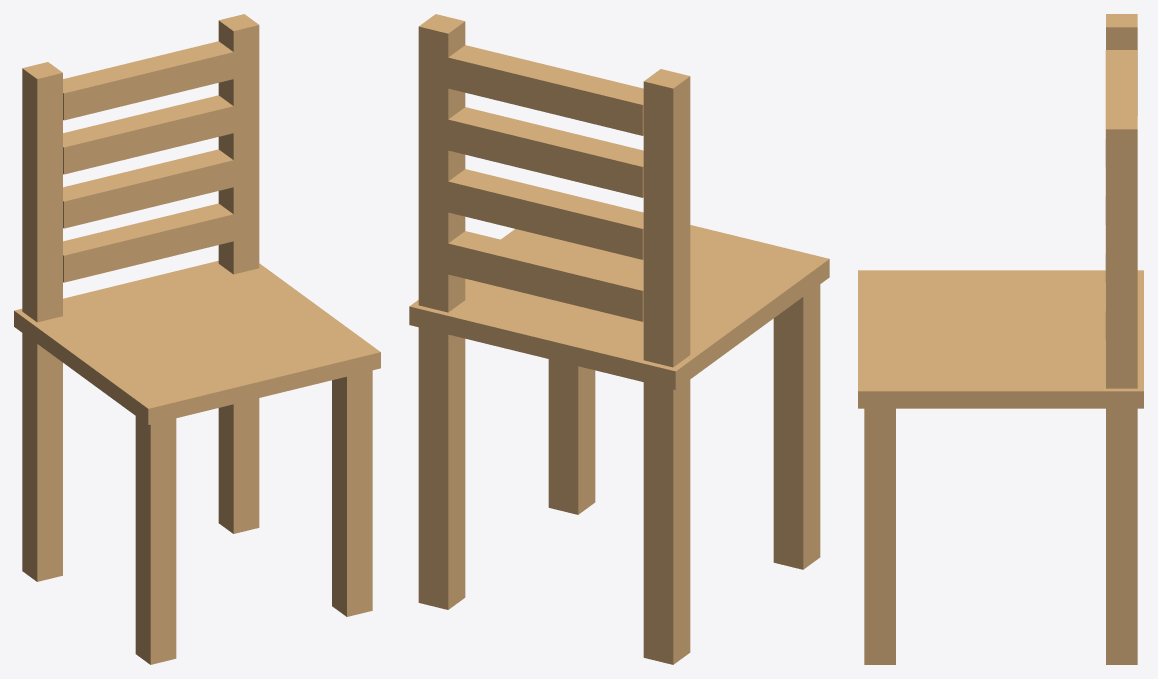
File: chair.dae
3 renders of one model, left to right at view 1: azimuth 30°, elevation 25°; view 2: azimuth 150°, elevation 25°; view 3: azimuth 270°, elevation 25°, orthographic. The views are drawn at different scales.
Parts seen in each view (by area): view 1: Cube.002; view 2: Cube.002; view 3: Cube.002.
Part boxes in pixels (x1,y1,x2,y2): Cube.002: (14, 14, 380, 664); Cube.002: (409, 14, 829, 664); Cube.002: (858, 14, 1143, 664).
Size of the model in its own units: 0.45 by 0.45 by 0.93.
